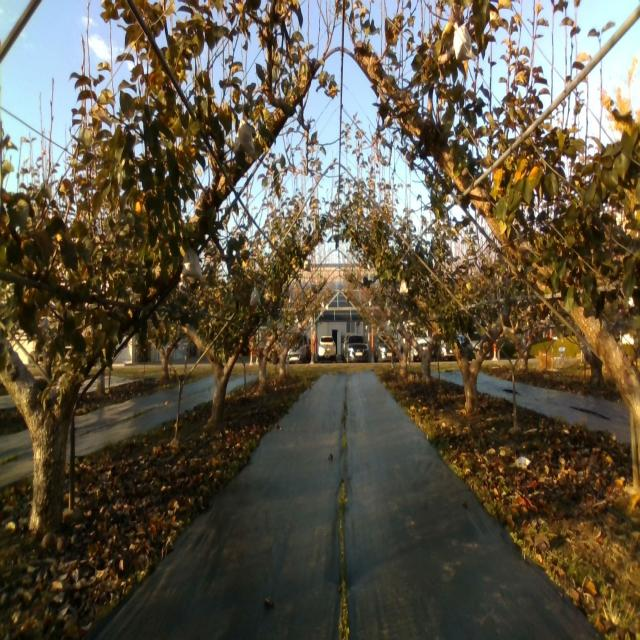pearbags: (452, 21, 476, 61), (233, 120, 257, 154), (181, 248, 203, 280), (250, 288, 261, 307)
